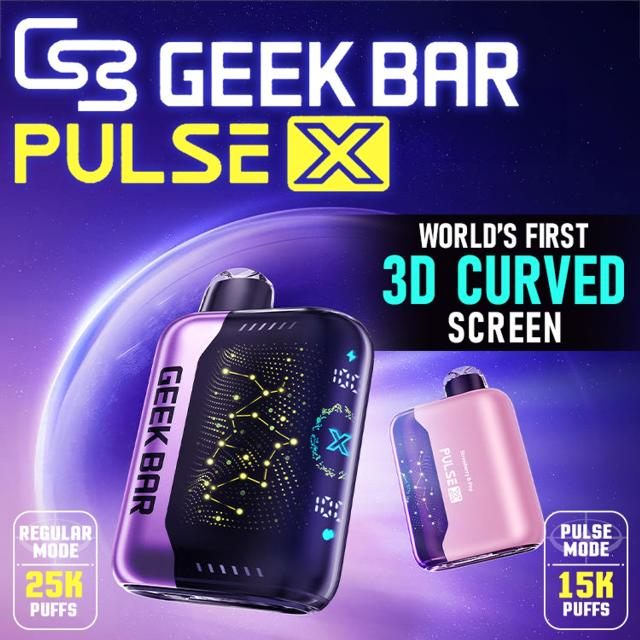Hazard: (111, 268, 375, 615)
